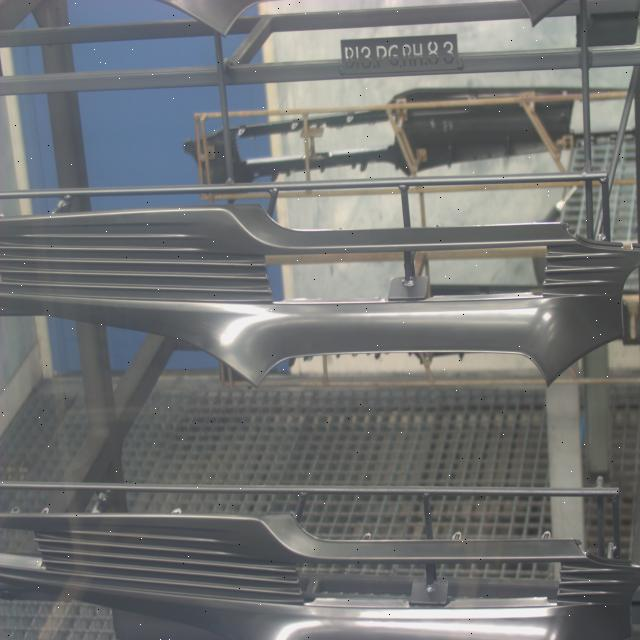Non_primered: (0, 202, 640, 393), (0, 508, 640, 640)
